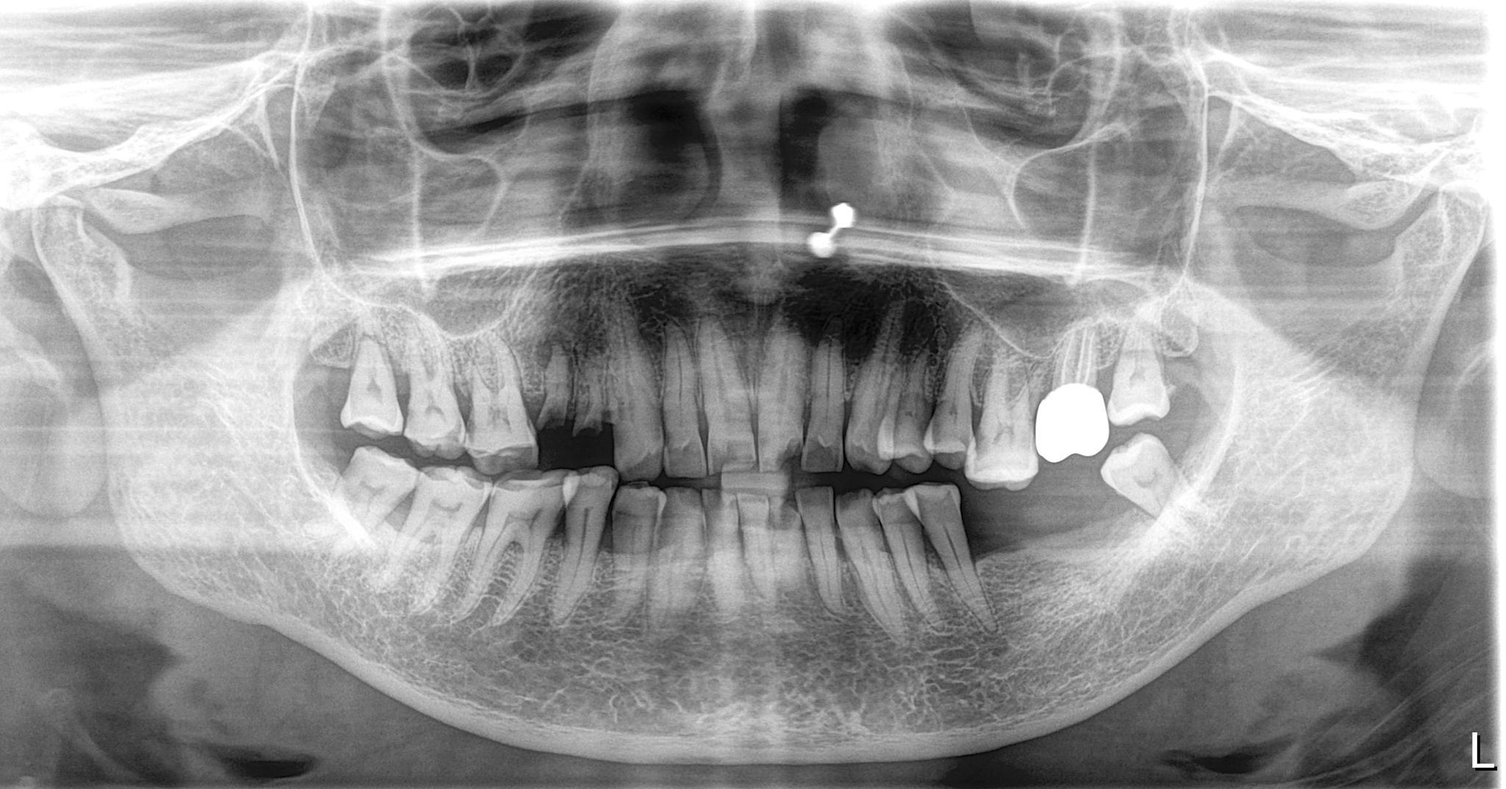Endodontically Treated Tooth: (1035, 342, 1110, 459)
Impacted Third Molar: (1110, 438, 1198, 526)
Missing Tooth: (967, 502, 1035, 636), (1048, 496, 1101, 630)
Retained Root: (529, 342, 617, 449)
